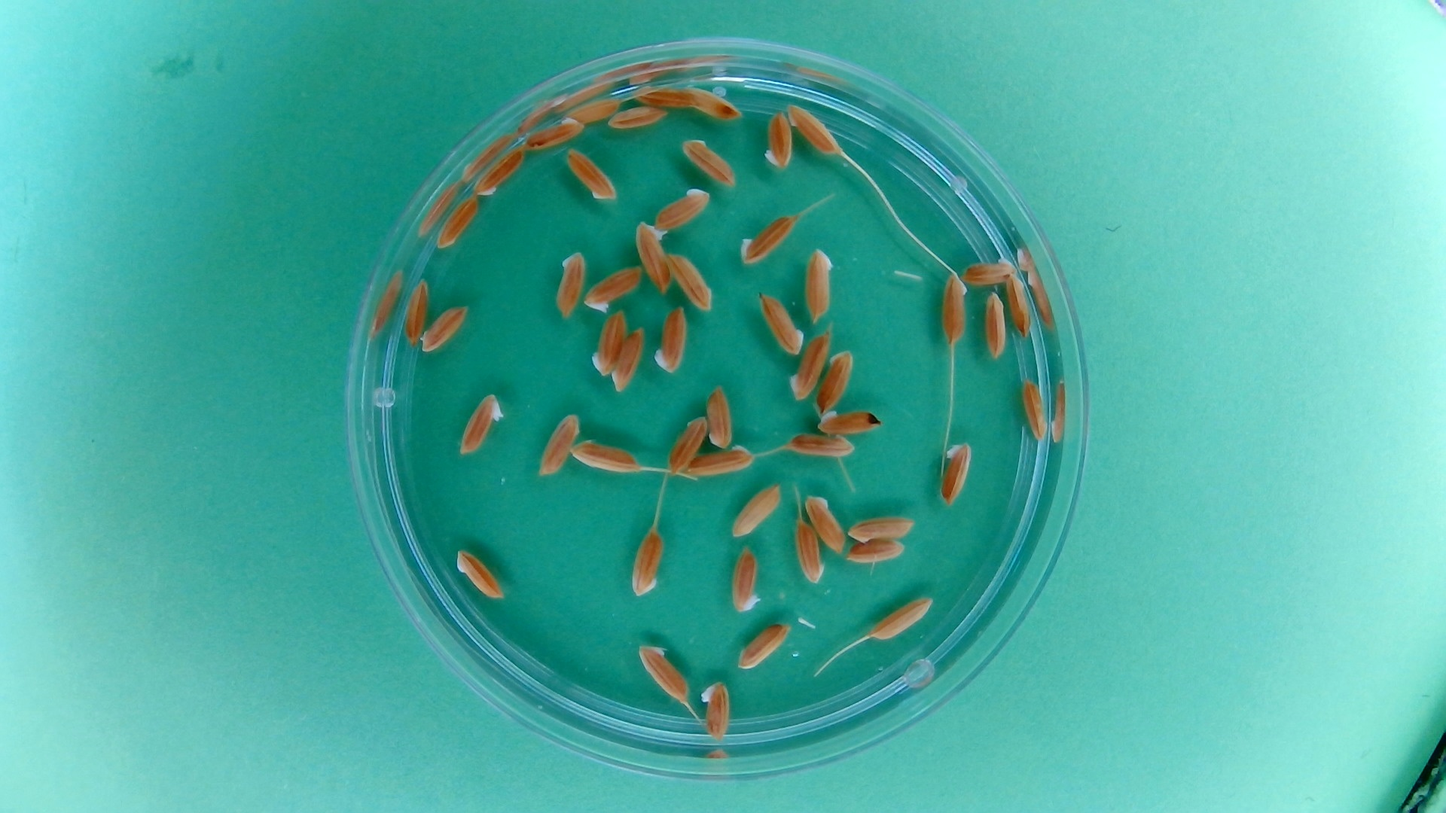no: (785, 99, 845, 158), (786, 327, 833, 402), (678, 133, 739, 189), (738, 211, 800, 266), (563, 145, 620, 204), (636, 643, 690, 705), (581, 263, 645, 315), (756, 288, 804, 357), (868, 594, 935, 642), (456, 390, 504, 457), (665, 248, 715, 312), (730, 480, 784, 539), (471, 143, 527, 197), (536, 410, 581, 477), (651, 184, 712, 232), (569, 438, 644, 476), (453, 547, 505, 601), (737, 620, 792, 671), (676, 83, 744, 124), (628, 525, 666, 598), (802, 492, 846, 555), (651, 304, 689, 376), (680, 445, 758, 480), (816, 347, 856, 415), (587, 308, 627, 376), (435, 192, 481, 251), (419, 303, 471, 355), (666, 413, 709, 475), (610, 324, 648, 394), (802, 246, 836, 324), (728, 544, 763, 616), (552, 249, 588, 319), (938, 438, 975, 506), (938, 271, 971, 346), (520, 115, 585, 153), (792, 518, 826, 586), (959, 251, 1022, 287), (847, 512, 917, 544), (699, 678, 734, 742), (400, 275, 431, 347), (814, 406, 886, 437), (784, 431, 857, 461), (761, 107, 794, 172), (1019, 375, 1050, 443), (705, 381, 735, 450), (561, 94, 624, 126), (982, 288, 1009, 360), (1005, 271, 1034, 338), (605, 103, 669, 132), (844, 538, 909, 566)
yes: (634, 220, 672, 294)
